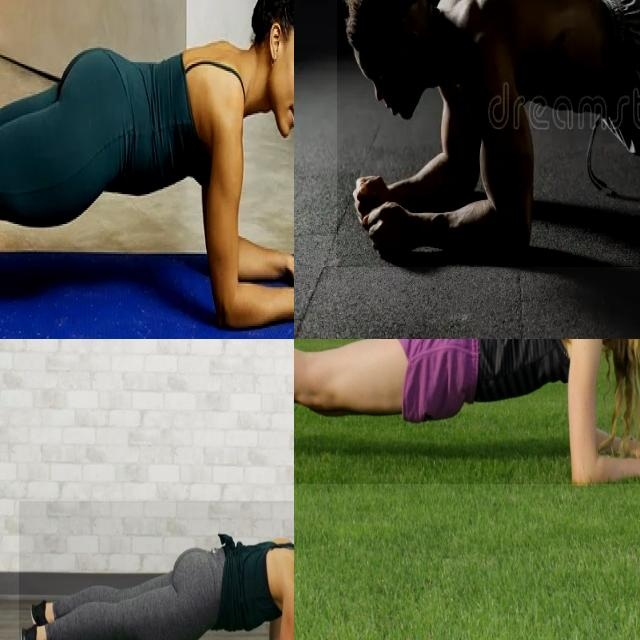plank: (65, 50, 310, 307)
